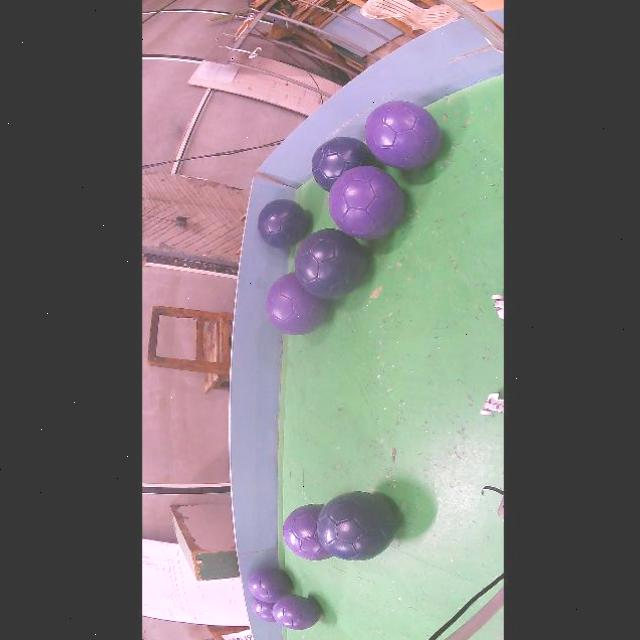B: (317, 491, 395, 560), (294, 228, 367, 299), (311, 136, 374, 192), (257, 199, 309, 248)
P: (328, 167, 404, 239), (364, 101, 442, 169), (266, 272, 329, 335), (282, 504, 331, 560), (271, 595, 320, 629), (248, 569, 291, 603), (251, 598, 275, 622)
